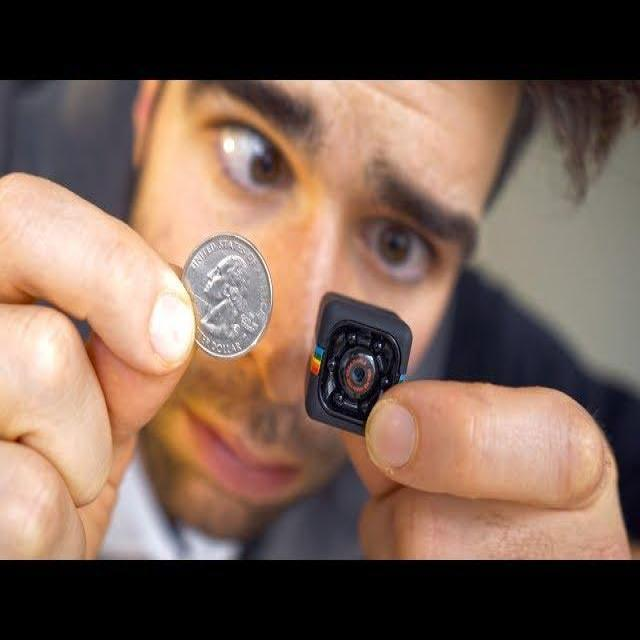hidden camera: (352, 366, 367, 387)
